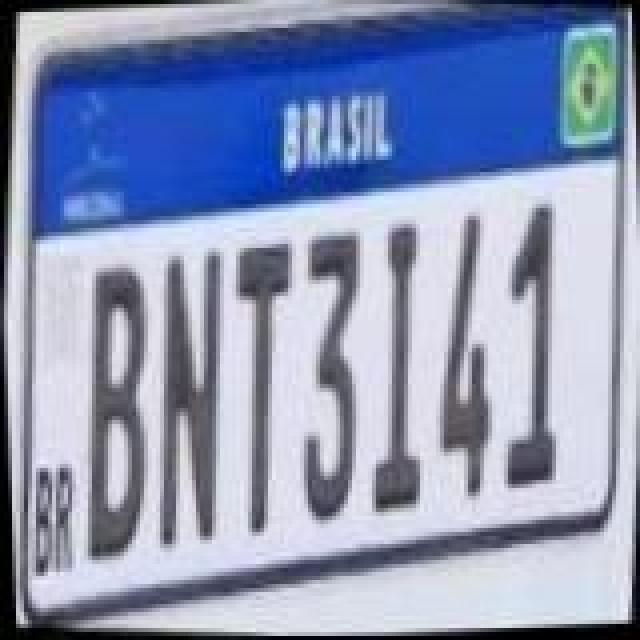1: (488, 198, 576, 494)
3: (280, 222, 376, 530)
4: (424, 210, 512, 502)
B: (68, 260, 168, 568)
I: (352, 220, 440, 520)
N: (138, 242, 238, 554)
T: (210, 230, 302, 538)
